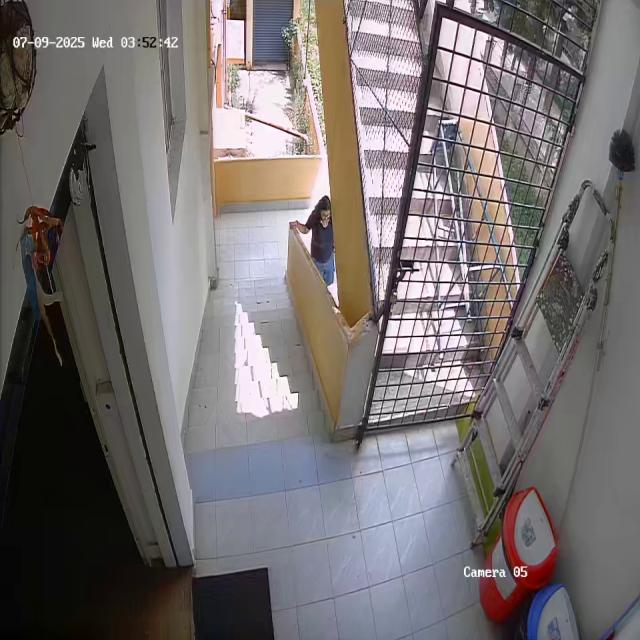person: (302, 195, 338, 286)
